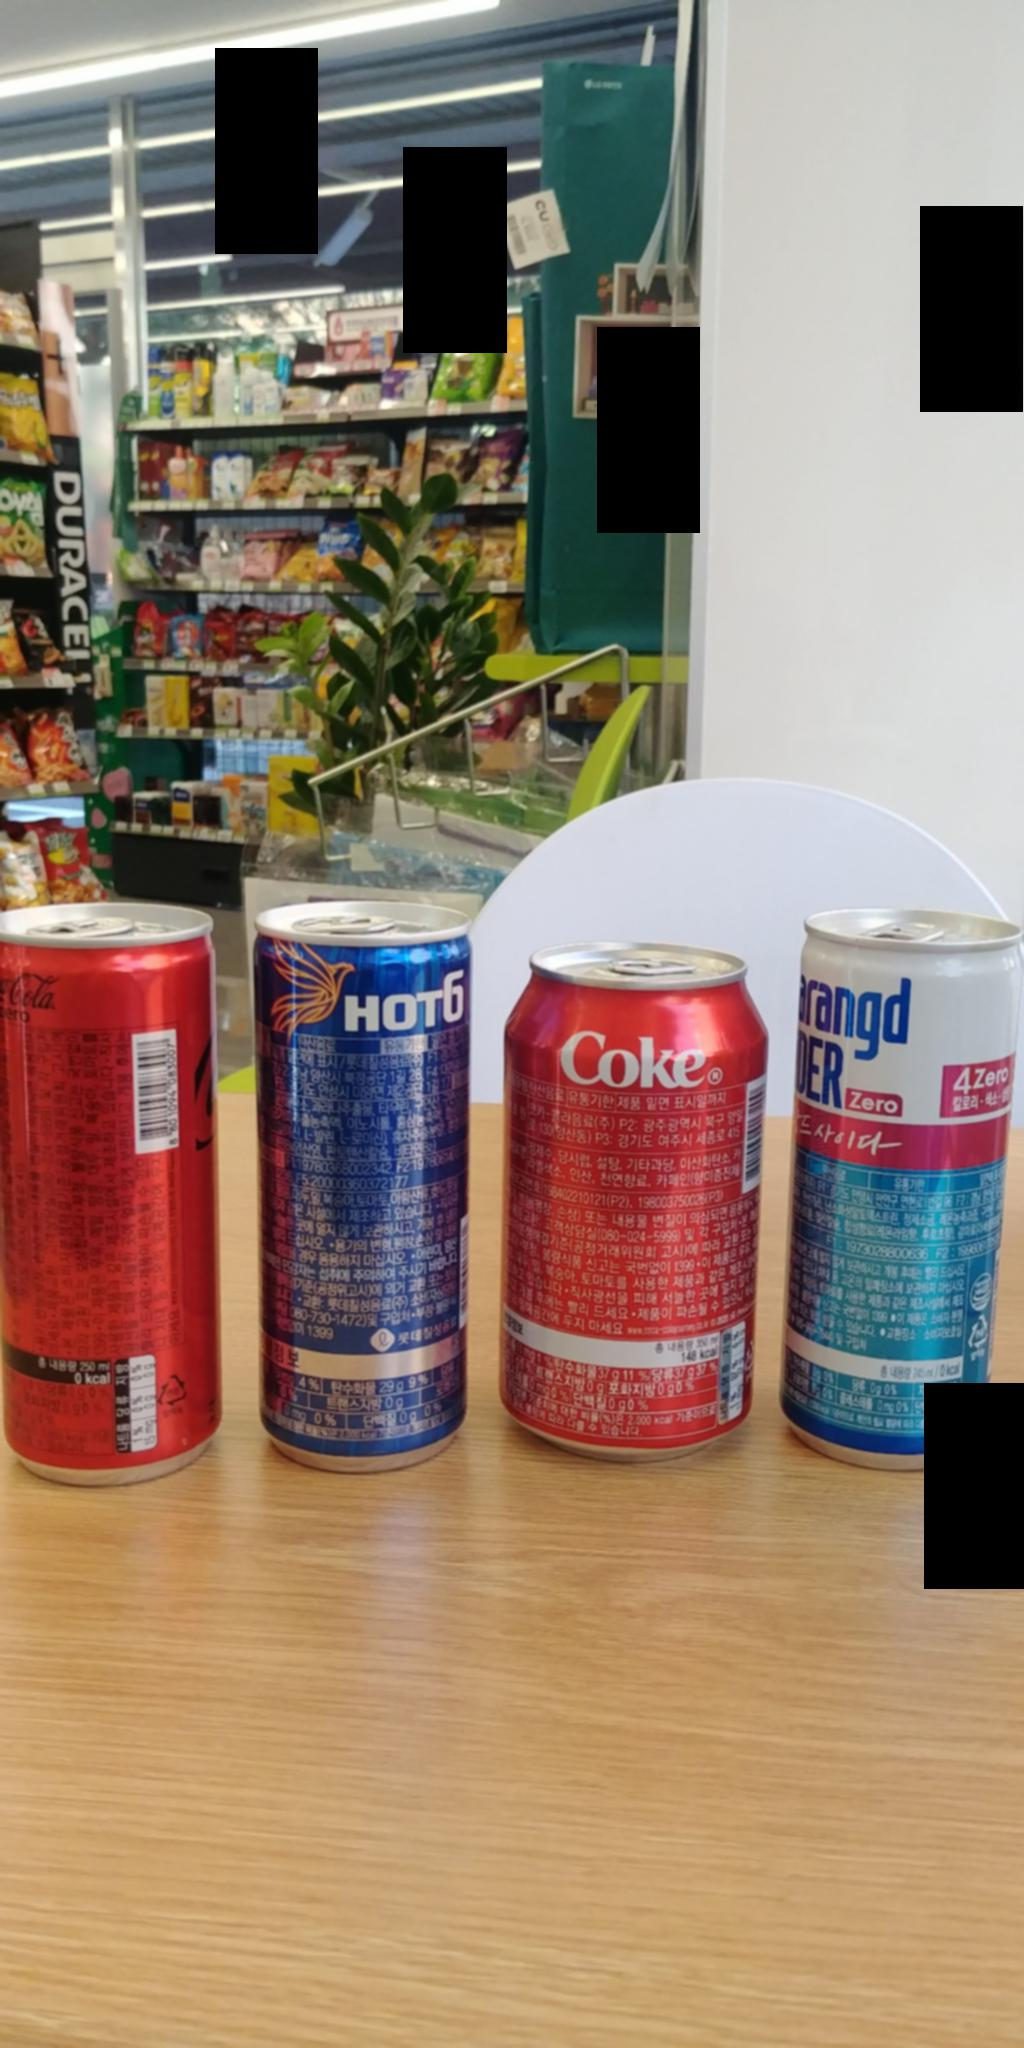cocacola: (488, 921, 761, 1485)
hotsix_org: (227, 886, 482, 1476)
narangdcider: (785, 882, 1024, 1503)
